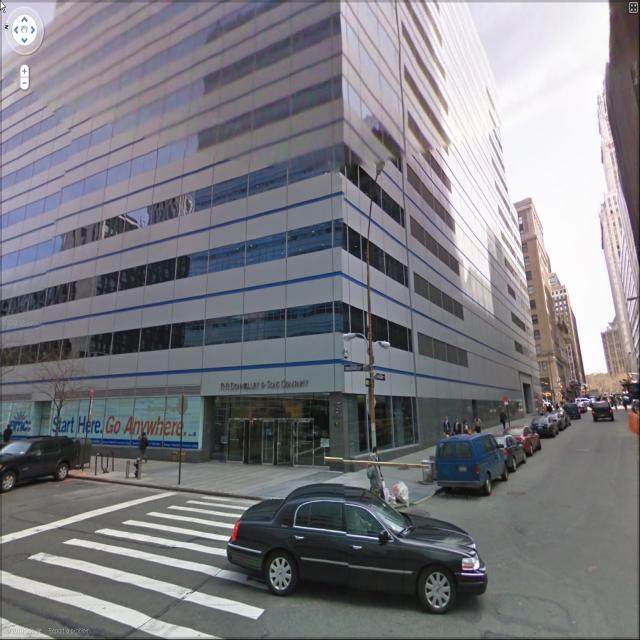b_1: (1, 8, 548, 412), (595, 85, 640, 328), (506, 206, 560, 407), (550, 273, 596, 409), (601, 298, 632, 414)
